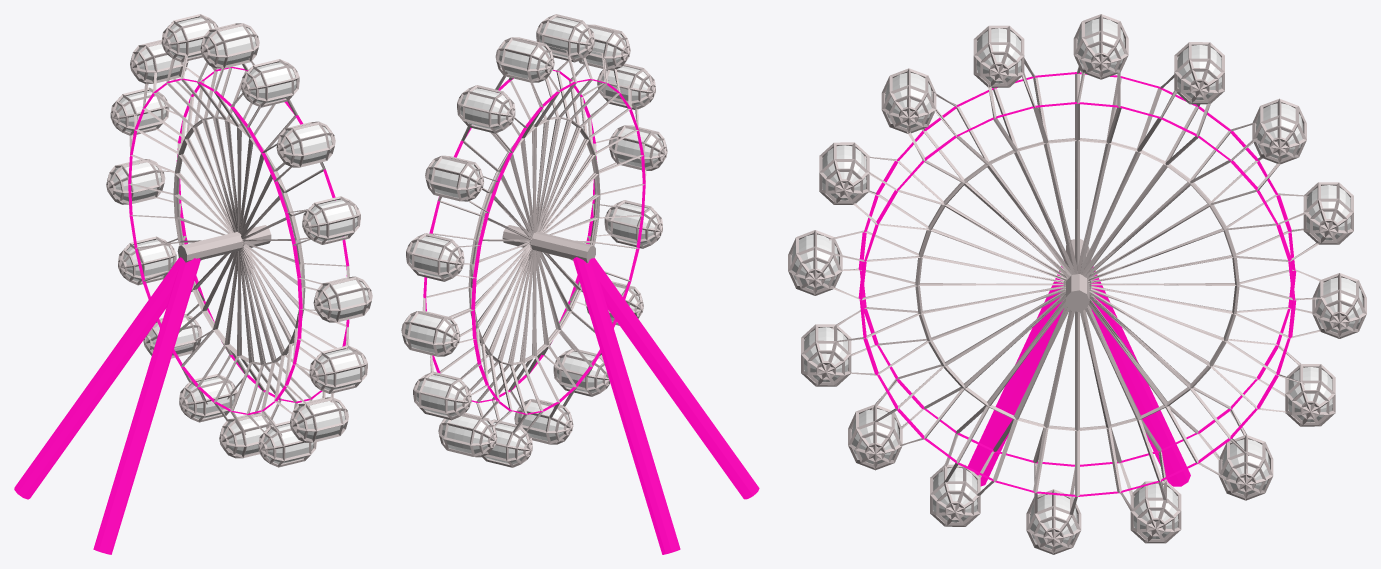
The model's file is ferris_wheel.glb.
3 views of the same model, side by side, from view 1: azimuth 30°, elevation 25°; view 2: azimuth 150°, elevation 25°; view 3: azimuth 270°, elevation 25° (orthographic). The views are drawn at different scales.
Parts seen in each view (by area): view 1: Cylinder, Sphere, Sphere.001, Cylinder.002, Cylinder.001; view 2: Cylinder, Sphere, Sphere.001, Cylinder.002, Cylinder.001; view 3: Cylinder, Sphere, Sphere.001, Cylinder.002, Cylinder.001.
Boxes of the visible parts, x1,y1,x2,y2 form: Cylinder: [127, 55, 349, 436]; Sphere: [106, 14, 372, 467]; Sphere.001: [110, 17, 368, 463]; Cylinder.002: [14, 257, 200, 554]; Cylinder.001: [177, 225, 271, 262]; Cylinder: [422, 45, 646, 435]; Sphere: [401, 14, 667, 467]; Sphere.001: [405, 17, 663, 464]; Cylinder.002: [573, 257, 759, 554]; Cylinder.001: [502, 225, 595, 263]; Cylinder: [829, 58, 1325, 514]; Sphere: [788, 14, 1366, 554]; Sphere.001: [791, 18, 1363, 548]; Cylinder.002: [967, 266, 1190, 486]; Cylinder.001: [1066, 239, 1089, 312].
Size of the model in its own units: 5.03 by 10.24 by 9.42.
